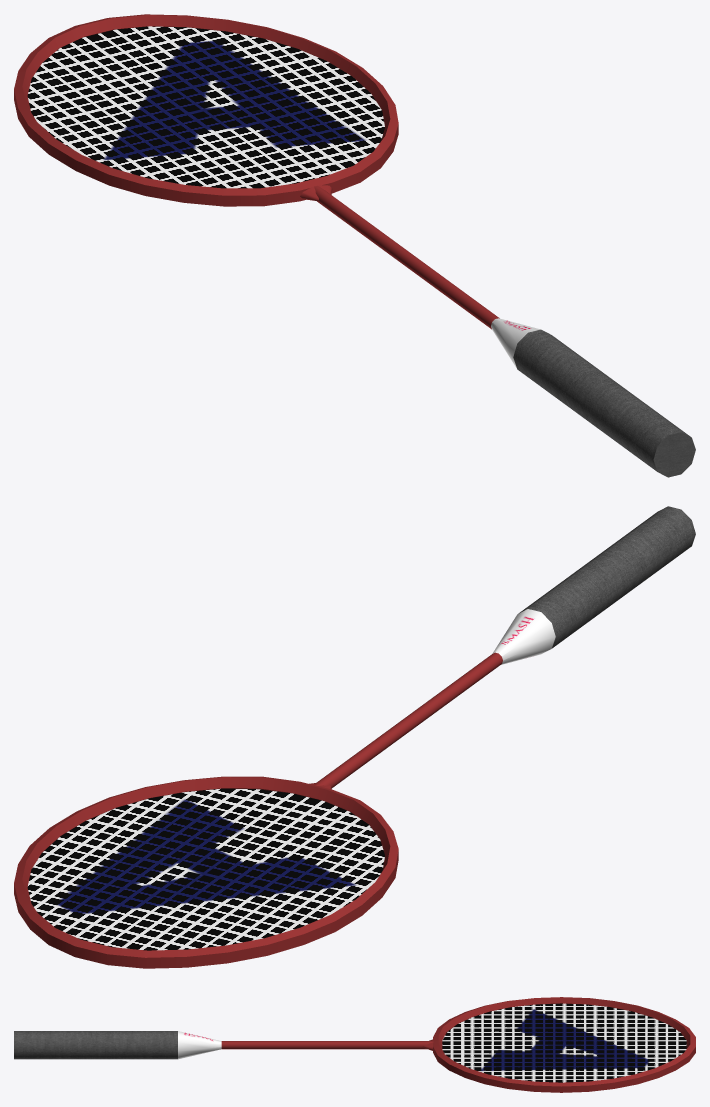
File: Badminton-racket-v1.obj
3 views of the same model, one above another, from view 1: azimuth 30°, elevation 25°; view 2: azimuth 150°, elevation 25°; view 3: azimuth 270°, elevation 25° (orthographic). The views are drawn at different scales.
Parts seen in each view (by area): view 1: 005_net, 004_rim-deformed, 000_handle, 003_cylinder, 001_handle-cap; view 2: 005_net, 004_rim-deformed, 000_handle, 003_cylinder, 001_handle-cap; view 3: 005_net, 004_rim-deformed, 000_handle, 003_cylinder, 001_handle-cap.
Part boxes in pixels (box(x1,y1,x2,y2)): 005_net: box(27, 26, 384, 188); 004_rim-deformed: box(14, 14, 398, 206); 000_handle: box(513, 329, 695, 477); 003_cylinder: box(314, 185, 499, 329); 001_handle-cap: box(491, 318, 540, 368); 005_net: box(27, 788, 384, 950); 004_rim-deformed: box(14, 776, 398, 968); 000_handle: box(518, 506, 695, 648); 003_cylinder: box(314, 652, 502, 788); 001_handle-cap: box(492, 609, 555, 664); 005_net: box(442, 1003, 686, 1082); 004_rim-deformed: box(433, 997, 695, 1092); 000_handle: box(14, 1031, 177, 1059); 003_cylinder: box(221, 1041, 433, 1049); 001_handle-cap: box(178, 1031, 221, 1059).
Size of the model in its own units: 206 by 26.63 by 666.
Materials: 6 (3 with a texture image).
